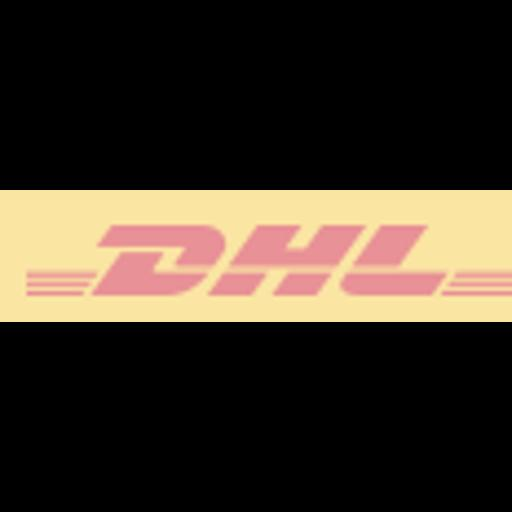DHL: (0, 190, 512, 322)
